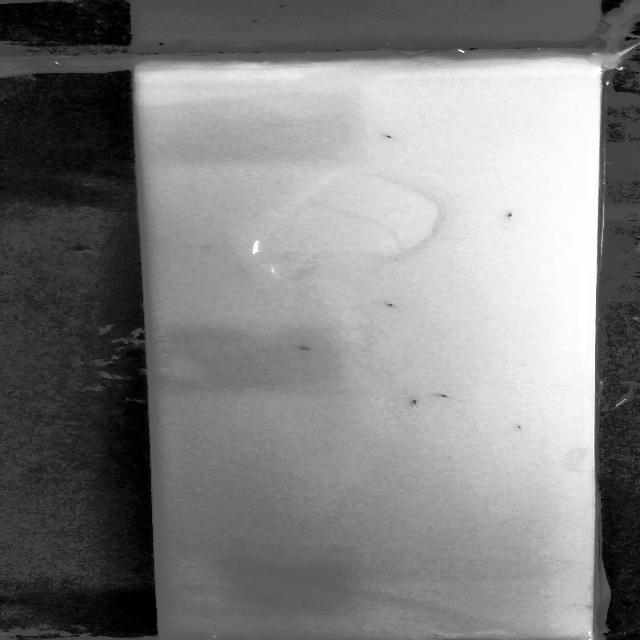shrimp: (434, 391, 462, 401), (406, 396, 426, 408), (256, 592, 274, 603), (503, 209, 517, 222), (511, 422, 529, 431), (300, 344, 320, 352), (385, 301, 401, 310), (385, 135, 399, 143)
